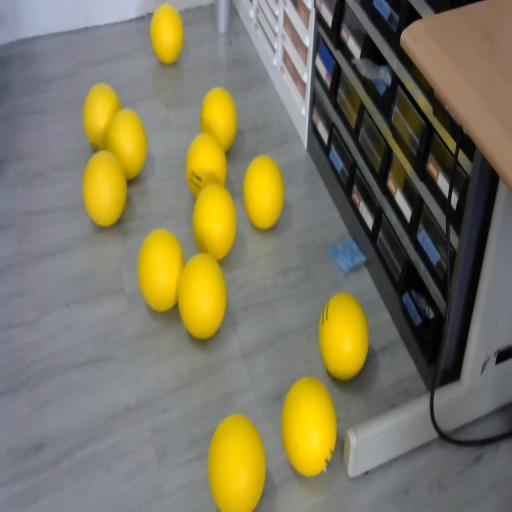FUEL: (280, 374, 338, 476), (207, 412, 266, 510), (176, 250, 228, 340), (318, 291, 368, 380), (136, 226, 186, 312), (82, 150, 128, 228), (192, 183, 237, 260), (242, 154, 285, 230), (83, 82, 121, 151), (200, 87, 238, 152), (150, 2, 184, 65)
